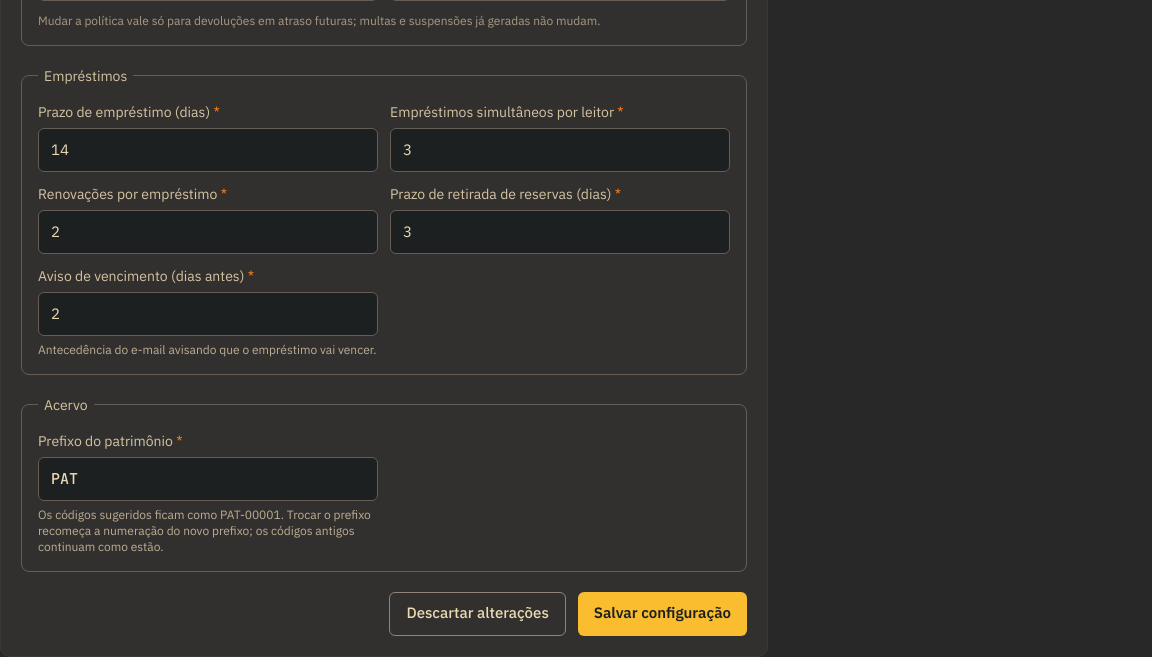
Test case: configuração: prefixo do patrimônio › envia o prefixo junto com o resto e renova a sugestão do patrimônio
(page scrolled)
Step 1. Replace the text in the field labelled "Prefixo do patrimônio *" with "bib" → (208, 478), box [38,456,378,500]
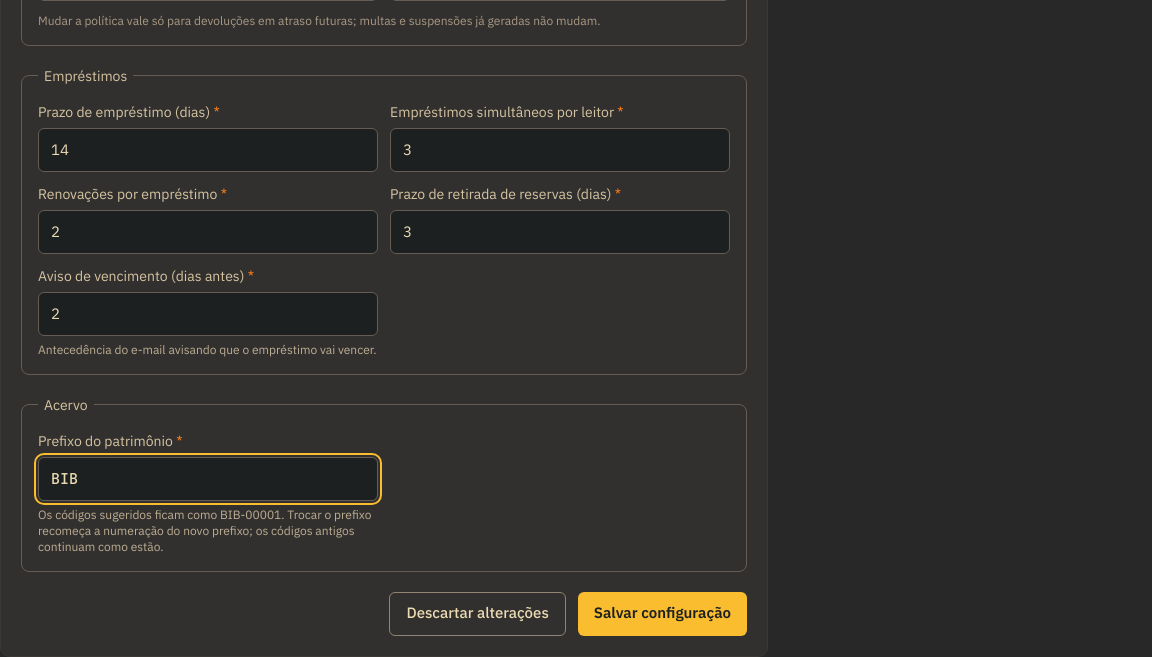
Step 2. Click the button "Salvar configuração" → click(662, 614), box [578,592,747,636]
(page scrolled)
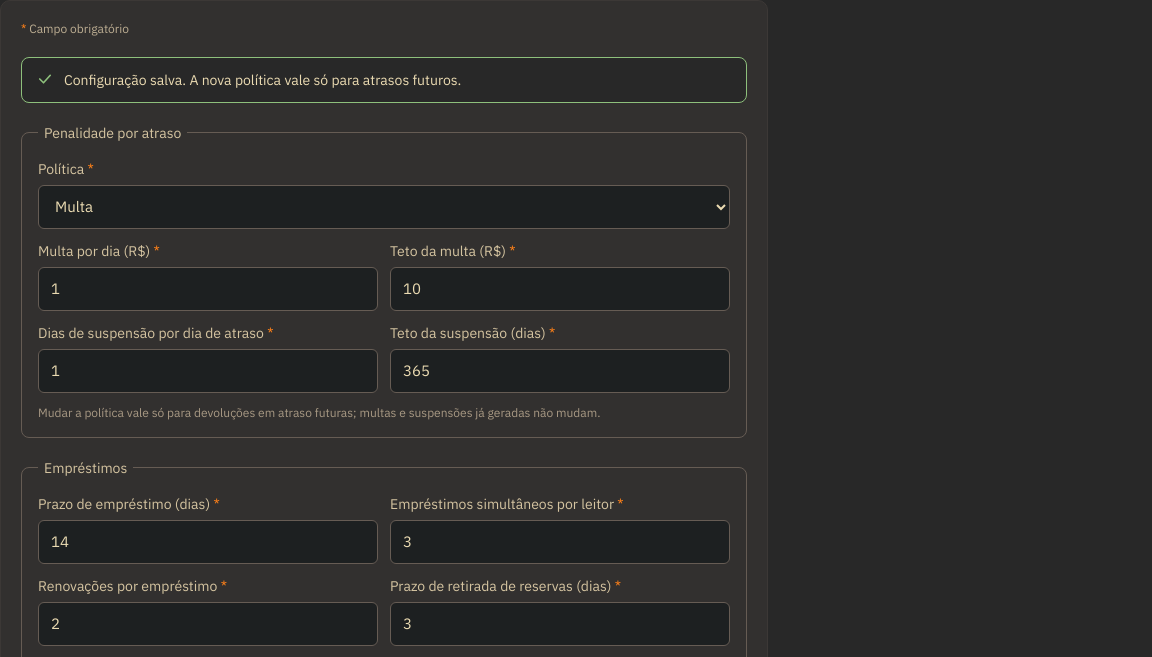
Result: the text "Configuração salva" is shown at [64,70,461,88]
